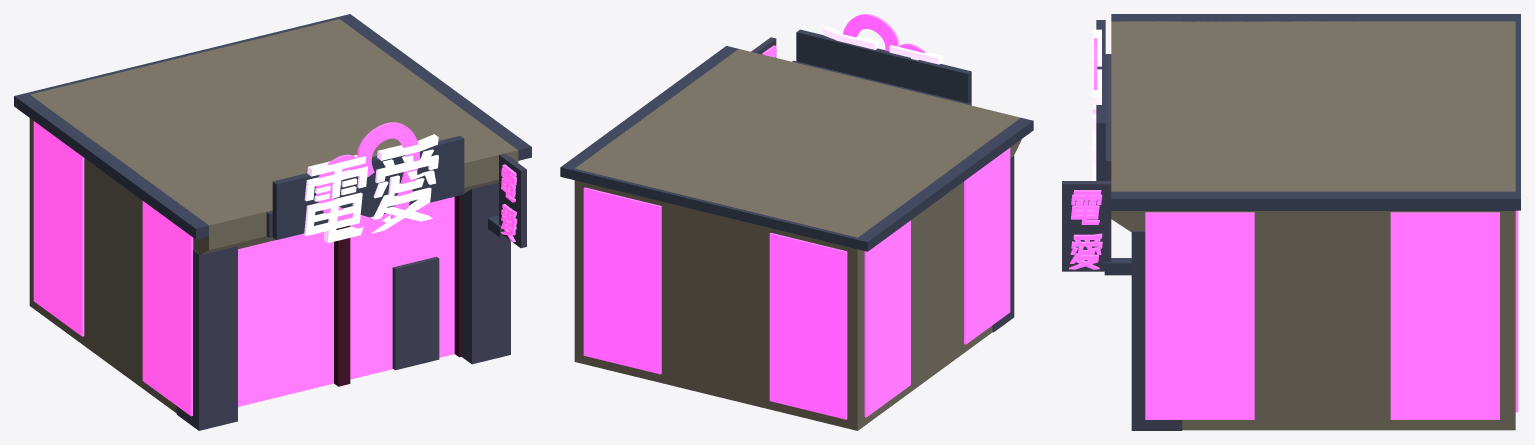
3 renders of one model, left to right at view 1: azimuth 30°, elevation 25°; view 2: azimuth 150°, elevation 25°; view 3: azimuth 270°, elevation 25°, orthographic. The views are drawn at different scales.
Visible parts, largest first — view 1: Cube.028, Cube.002, Cube.016, Cube.017, Cube.007, Cube, Text.002, Cube.001, Cube.011, Cube.006, Cube.018, Text.003 (+6 smaller); view 2: Cube.028, Cube.013, Cube.014, Cube.001, Cube.016, Cube.017, Cube.011, Cube.020, Cube.018, Cube.019, Text.003, Text.002 (+1 smaller); view 3: Cube.028, Cube.012, Cube.015, Cube.001, Cube.019, Cube, Cube.018, Cube.008, Text, Cube.020, Cube.011, Text.002 (+3 smaller).
Part boxes in pixels (x1,y1,x2,y2): Cube.028: (29,19,486,413); Cube.002: (238,197,454,406); Cube.016: (33,121,84,336); Cube.017: (142,201,193,416); Cube.007: (176,246,237,430); Cube: (461,182,510,364); Text.002: (303,134,438,242); Cube.001: (178,127,518,255); Cube.011: (272,136,464,239); Cube.006: (392,256,439,370); Cube.018: (16,94,208,239); Text.003: (316,122,419,240); Cube.028: (574,70,992,430); Cube.013: (583,187,661,374); Cube.014: (769,233,847,419); Cube.001: (710,49,1021,157); Cube.016: (864,220,910,417); Cube.017: (964,148,1010,344); Cube.011: (796,29,971,105); Cube.020: (560,166,869,251); Cube.018: (858,117,1033,249); Cube.019: (563,46,738,168); Text.003: (843,14,925,52); Text.002: (823,26,942,64); Cube.028: (1182,21,1515,430); Cube.012: (1145,212,1254,419); Cube.015: (1390,212,1499,419); Cube.001: (1111,21,1182,231); Cube.019: (1111,191,1515,210); Cube: (1131,231,1182,430); Cube.018: (1111,14,1515,21); Cube.008: (1062,181,1111,271); Text: (1069,190,1102,269); Cube.020: (1515,14,1520,210); Cube.011: (1096,20,1105,180); Text.002: (1092,29,1101,180).
Size of the model in its own units: 13.47 by 10.61 by 14.12.
